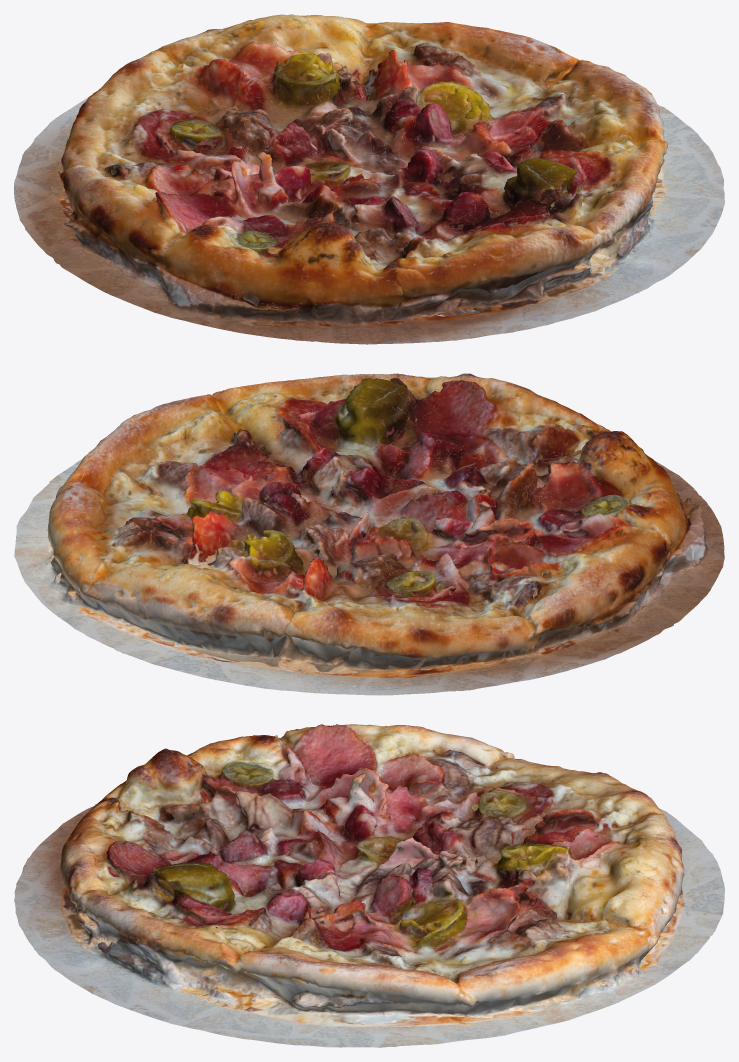
Rendered from pizza.glb.
The picture shows the model from 3 angles, top to bottom: view 1: azimuth 30°, elevation 25°; view 2: azimuth 150°, elevation 25°; view 3: azimuth 270°, elevation 25°; orthographic projection.
Parts seen in each view (by area): view 1: decMesh; view 2: decMesh; view 3: decMesh.
Boxes of the visible parts, x1,y1,x2,y2 form: decMesh: [14, 14, 724, 344]; decMesh: [14, 373, 724, 695]; decMesh: [14, 724, 724, 1047].
Bounding box in the file's own units: 0.6983 × 0.0847 × 0.698.
Materials: 1 (1 with a texture image).
